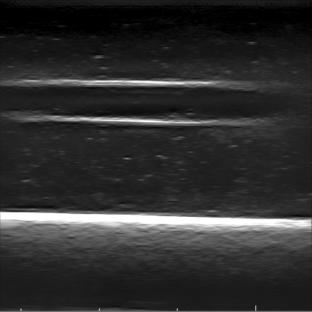vessel: (5, 78, 286, 128)
